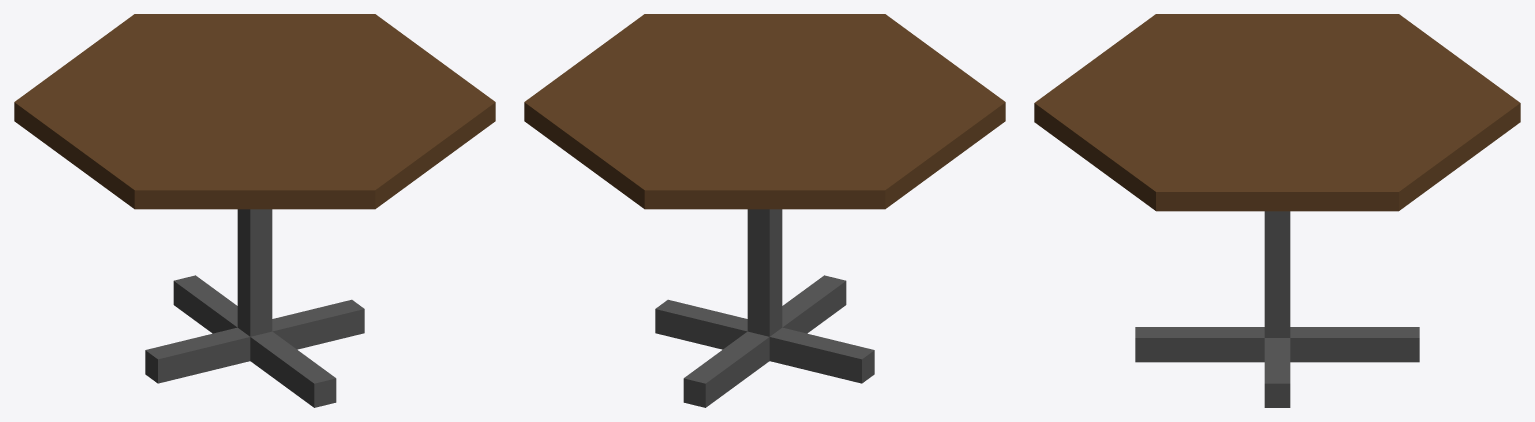
The model's file is circle_table_low.fbx.
The picture shows the model from 3 angles, left to right: view 1: azimuth 30°, elevation 25°; view 2: azimuth 150°, elevation 25°; view 3: azimuth 270°, elevation 25°; orthographic projection.
Visible parts, largest first — view 1: Cylinder, Cylinder_cell.003, Cube, Cylinder_cell.004, Cube_cell, Cylinder_cell.001, Cylinder_cell, Cylinder_cell.002, Cube_cell.004; view 2: Cylinder, Cylinder_cell.003, Cube, Cube_cell, Cube_cell.004, Cylinder_cell.004; view 3: Cylinder, Cylinder_cell.003, Cube, Cube_cell.004, Cylinder_cell, Cube_cell.002, Cylinder_cell.002.
Part boxes in pixels (<box>): Cylinder: <box>14,14,495,209</box>; Cylinder_cell.003: <box>15,14,374,101</box>; Cube: <box>145,209,364,407</box>; Cylinder_cell.004: <box>14,102,255,209</box>; Cube_cell: <box>145,209,257,383</box>; Cylinder_cell.001: <box>254,148,433,209</box>; Cylinder_cell: <box>435,102,495,154</box>; Cylinder_cell.002: <box>435,112,495,164</box>; Cube_cell.004: <box>294,302,364,323</box>; Cylinder: <box>524,14,1005,209</box>; Cylinder_cell.003: <box>524,102,885,209</box>; Cube: <box>659,209,874,388</box>; Cube_cell: <box>694,209,874,407</box>; Cube_cell.004: <box>655,209,801,405</box>; Cylinder_cell.004: <box>885,110,1004,208</box>; Cylinder: <box>1034,14,1520,211</box>; Cylinder_cell.003: <box>1278,14,1520,210</box>; Cube: <box>1135,211,1419,407</box>; Cube_cell.004: <box>1200,211,1396,407</box>; Cylinder_cell: <box>1096,149,1398,201</box>; Cube_cell.002: <box>1136,350,1199,362</box>; Cylinder_cell.002: <box>1160,201,1399,211</box>.
Size of the model in its own units: 595 by 396 by 687.
